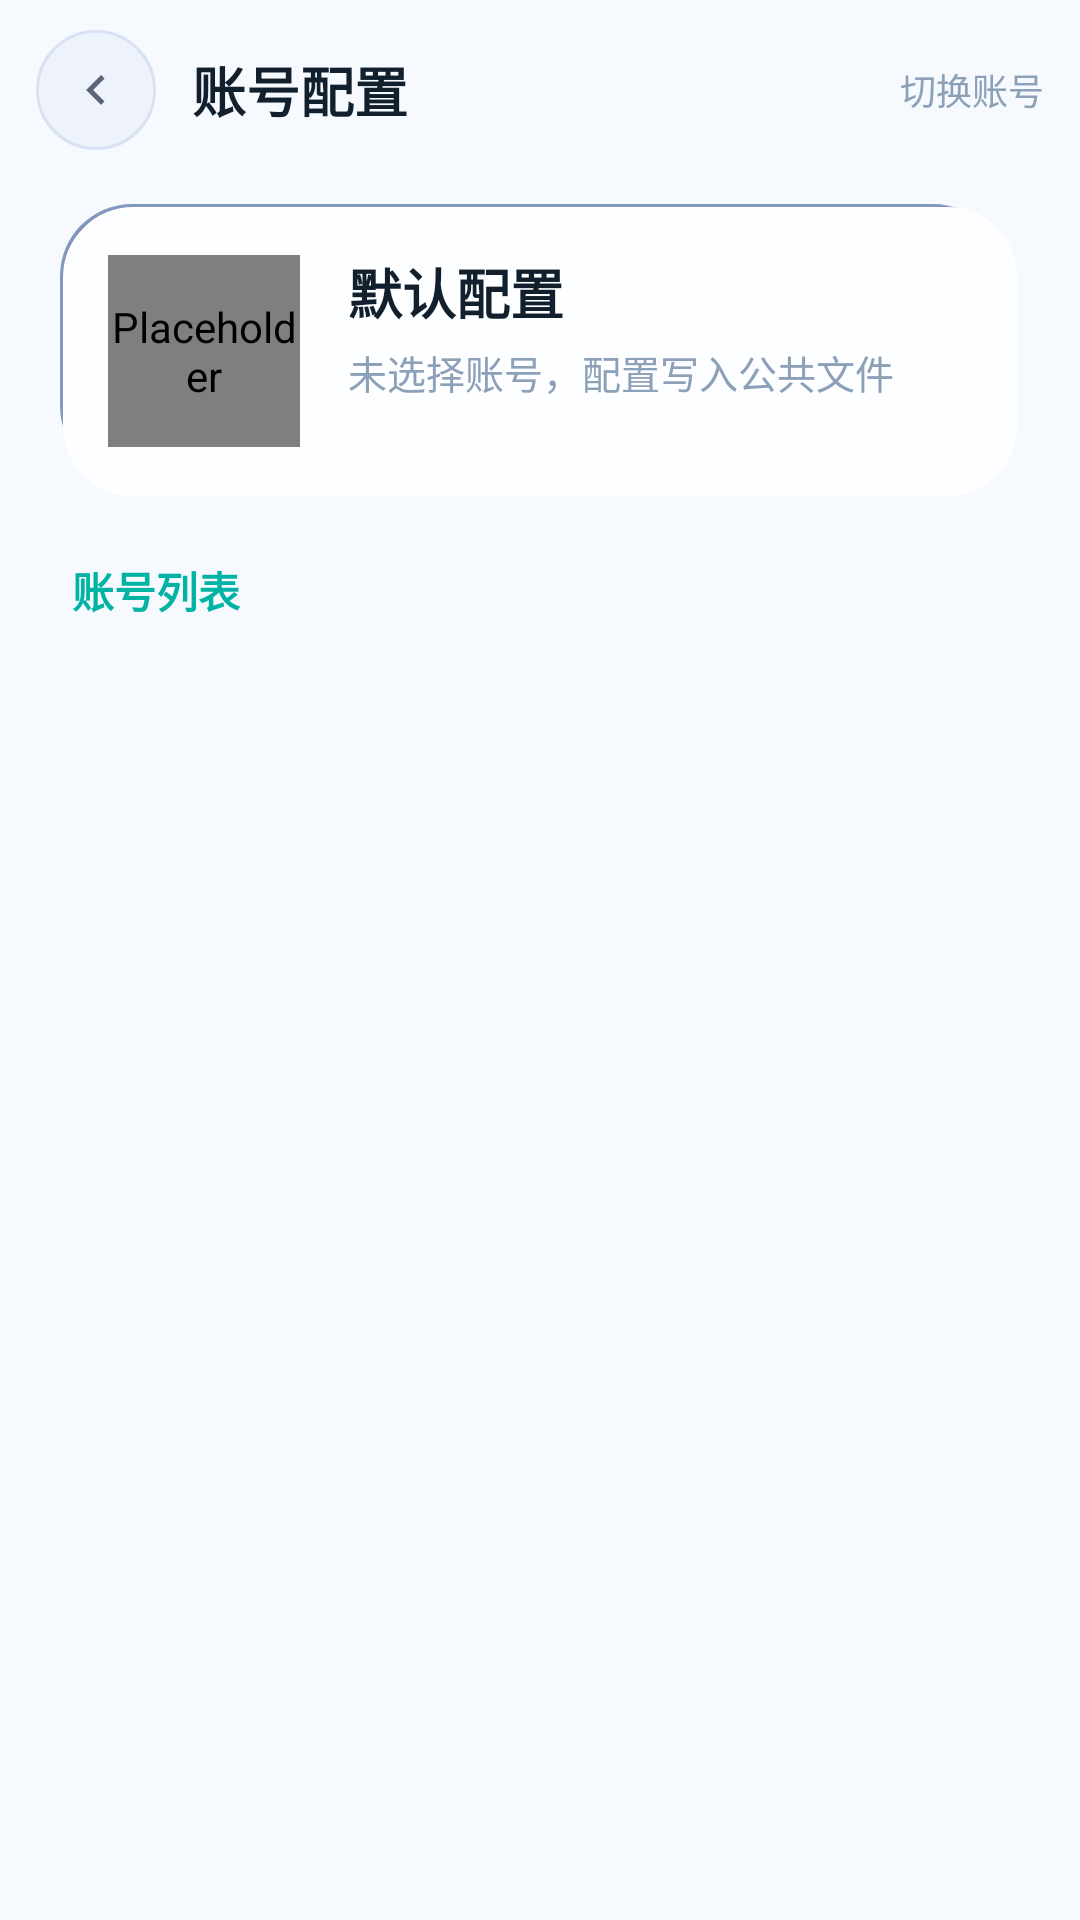

Locate icon controls on the screen. Image size 1080 × 1920, boxes as (x1, y1, x2, y2).
neo back: (86, 75, 105, 105)
